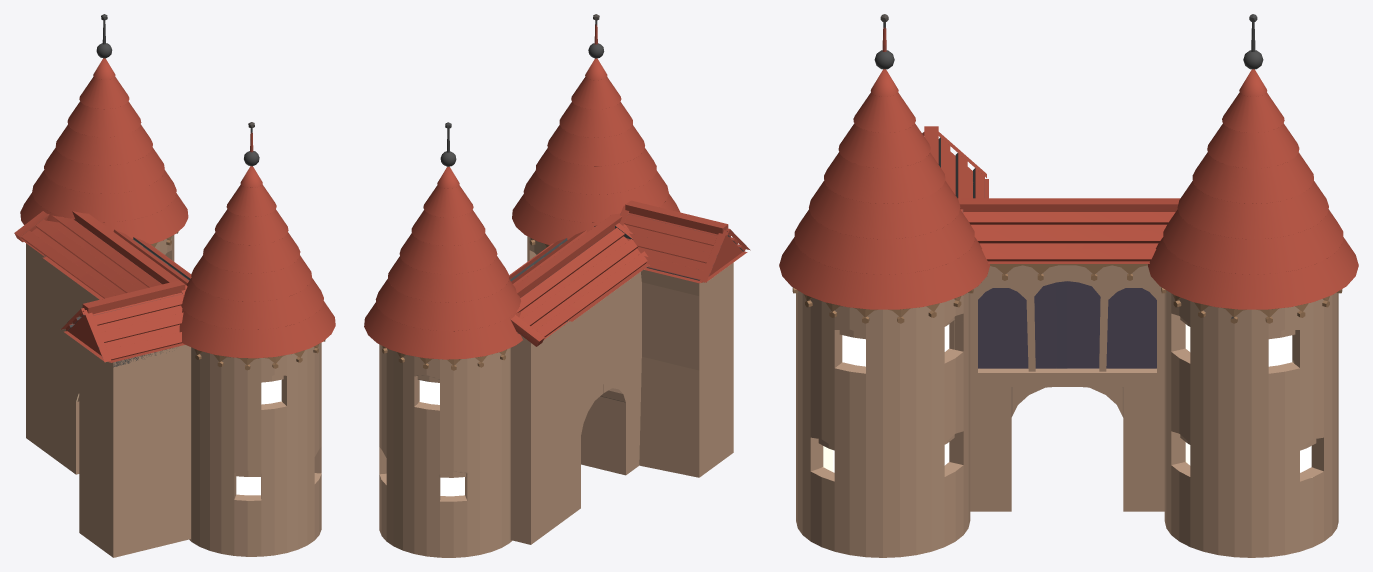
The model's file is GameProject3_OberesTor_Variante2.3.fbx.
3 views of the same model, side by side, from view 1: azimuth 30°, elevation 25°; view 2: azimuth 150°, elevation 25°; view 3: azimuth 270°, elevation 25° (orthographic). The views are drawn at different scales.
Parts seen in each view (by area): view 1: Oberes Tor Variante 2.3; view 2: Oberes Tor Variante 2.3; view 3: Oberes Tor Variante 2.3.
Part boxes in pixels (<box>): Oberes Tor Variante 2.3: <box>14,14,335,557</box>; Oberes Tor Variante 2.3: <box>364,14,750,557</box>; Oberes Tor Variante 2.3: <box>779,14,1358,557</box>.
Bounding box in the file's own units: 1020 × 1770 × 1834.
Materials: 1 (1 with a texture image).
